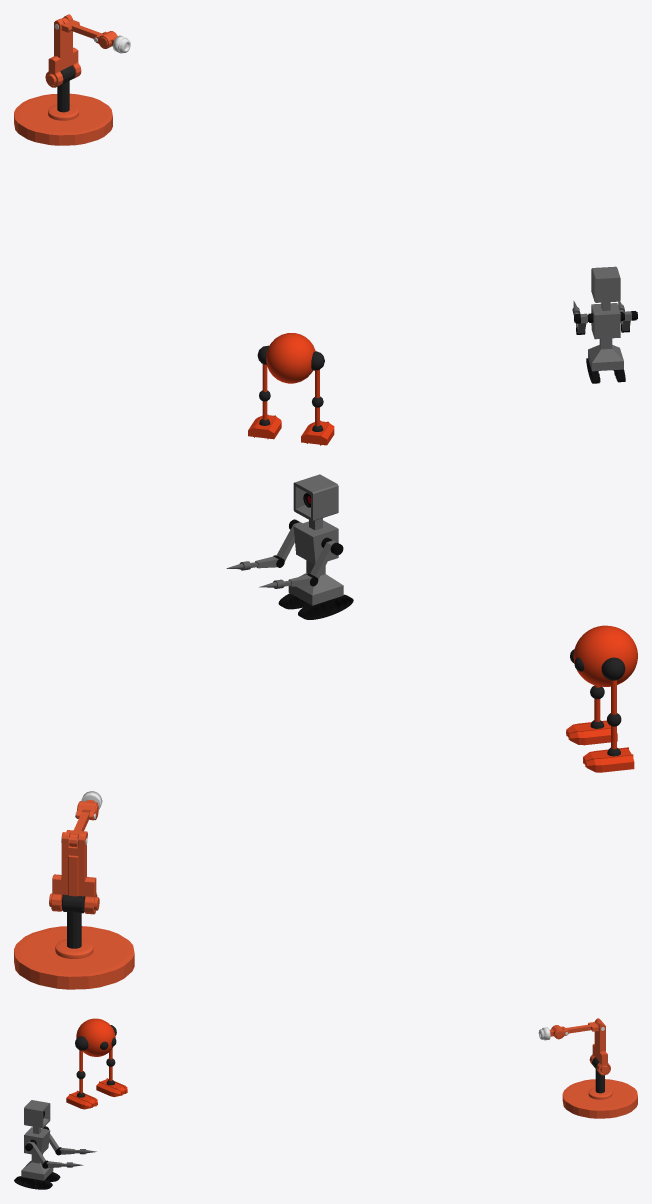
Rendered from cnit_assets.fbx.
3 renders of one model, top to bottom at view 1: azimuth 30°, elevation 25°; view 2: azimuth 150°, elevation 25°; view 3: azimuth 270°, elevation 25°, orthographic. The views are drawn at different scales.
Visible parts, largest first — view 1: Cylinder.002, Sphere.001, Cube.002, Cylinder.019, Cube.021, Cube; view 2: Cylinder.002, Sphere.001, Cylinder.019, Cube.002, Cube.021, Cube, Cube.012; view 3: Cylinder.002, Sphere.001, Cube.002, Cube.021, Cylinder.019, Cube, Cube.012.
Part boxes in pixels (x1,y1,x2,y2): Cylinder.002: (14, 93, 112, 145); Sphere.001: (266, 333, 315, 383); Cube.002: (588, 303, 623, 371); Cylinder.019: (45, 14, 81, 87); Cube.021: (248, 414, 334, 445); Cube: (591, 266, 620, 302); Cylinder.002: (14, 926, 134, 989); Sphere.001: (573, 625, 637, 686); Cylinder.019: (49, 832, 99, 914); Cube.002: (288, 520, 343, 605); Cube.021: (566, 720, 634, 772); Cube: (293, 474, 338, 521); Cube.012: (278, 593, 353, 619); Cylinder.002: (562, 1079, 637, 1118); Sphere.001: (76, 1018, 115, 1056); Cube.002: (21, 1127, 53, 1180); Cube.021: (66, 1078, 127, 1109); Cylinder.019: (589, 1018, 610, 1075); Cube: (24, 1100, 50, 1128); Cube.012: (14, 1172, 60, 1189).
Size of the model in its own units: 3092 by 1269 by 6227.
